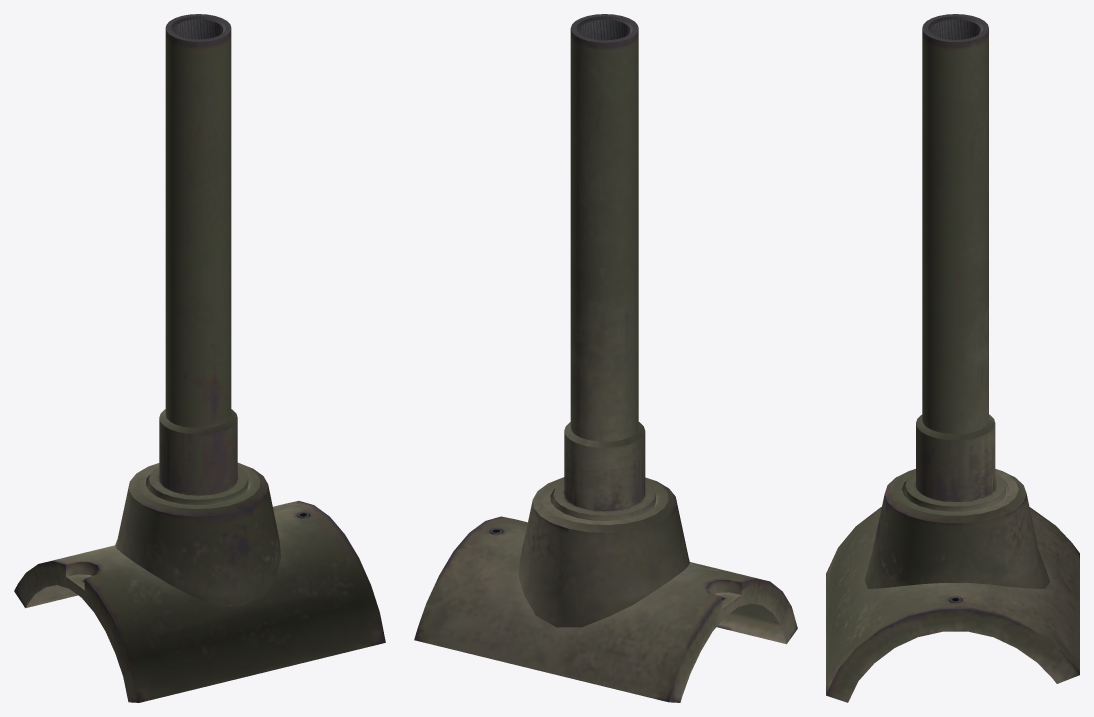
Rendered from Gun_02.glb.
3 views of the same model, side by side, from view 1: azimuth 30°, elevation 25°; view 2: azimuth 150°, elevation 25°; view 3: azimuth 270°, elevation 25° (orthographic). The views are drawn at different scales.
Visible parts, largest first — view 1: set_0_group_0; view 2: set_0_group_0; view 3: set_0_group_0.
Boxes of the visible parts, x1,y1,x2,y2 form: set_0_group_0: (14,14,385,702); set_0_group_0: (414,14,797,702); set_0_group_0: (826,14,1079,702).
Bounding box in the file's own units: 0.6994 × 1.64 × 0.6147.
1 material, 1 textured.
